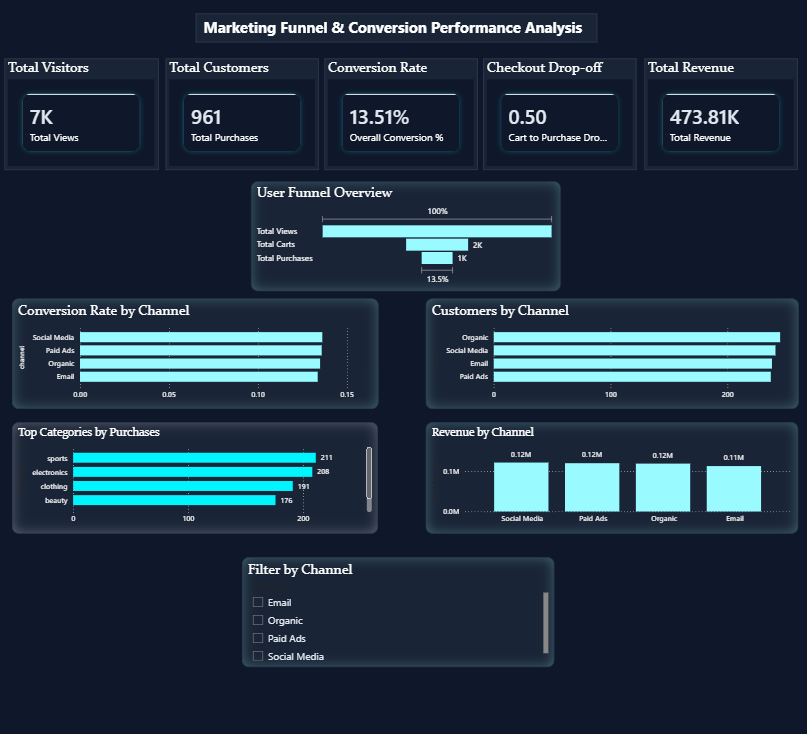

What the dashboard file says about the page in this screenshot:
{"tool":"powerbi","page":{"name":"Page 1","canvas":[1300,1100],"ordinal":0},"visuals":[{"type":"cardVisual","title":"Total Visitors","fields":{"Data":["Sheet1.Total Views"]},"box":[11.7,100.5,248,179.3],"z":0},{"type":"cardVisual","title":"Total Customers","fields":{"Data":["Sheet1.Total Purchases"]},"box":[271.4,100.5,246.3,179.3],"z":1000},{"type":"cardVisual","title":"Conversion Rate","fields":{"Data":["Sheet1.Overall Conversion %"]},"box":[527.8,100.5,246.3,179.3],"z":2000},{"type":"cardVisual","title":"Checkout Drop-off","fields":{"Data":["Sheet1.Cart to Purchase Drop %"]},"box":[782.5,100.5,246.3,179.3],"z":3000},{"type":"cardVisual","title":"Total Revenue","fields":{"Data":["Sheet1.Total Revenue"]},"box":[1042.2,100.5,246.3,179.3],"z":4000},{"type":"funnel","title":"User Funnel Overview","fields":{"Y":["Sheet1.Total Views","Sheet1.Total Carts","Sheet1.Total Purchases"]},"box":[407.2,296.6,499.3,177.6],"z":5000},{"type":"clusteredBarChart","title":"Customers by Channel","fields":{"Y":["Sheet1.Total Purchases"],"Category":["Sheet1.channel"]},"box":[688.7,485.9,599.9,177.6],"z":6000},{"type":"slicer","title":"Filter by Channel","fields":{"Values":["Sheet1.channel"]},"box":[408.2,880.7,498.7,176.9],"z":7000},{"type":"clusteredBarChart","title":"Conversion Rate by Channel","fields":{"Y":["Sheet1.Overall Conversion %"],"Category":["Sheet1.channel"]},"box":[25.1,485.9,589.8,177.6],"z":8000},{"type":"clusteredColumnChart","title":"Revenue by Channel","fields":{"Category":["Sheet1.channel"],"Y":["Sheet1.Total Revenue"]},"box":[689.7,685.7,599.2,179],"z":9000},{"type":"clusteredBarChart","title":"Top Categories by Purchases","fields":{"Category":["Sheet1.category"],"Y":["Sheet1.Total Purchases"]},"box":[24.1,685.7,589.1,179],"z":10000},{"type":"textbox","box":[319.7,28.2,645.4,46.2],"z":11000}]}

Visuals, with their boxes on the page's 1300x1100 design canvas (x1, y1, x2, y2). These are canvas units, not pixel positions in the 807x734 screenshot, which may show the page scaled, cropped or inside an application window:
"Total Visitors" cardVisual: 12, 100, 260, 280
"Total Customers" cardVisual: 271, 100, 518, 280
"Conversion Rate" cardVisual: 528, 100, 774, 280
"Checkout Drop-off" cardVisual: 782, 100, 1029, 280
"Total Revenue" cardVisual: 1042, 100, 1288, 280
"User Funnel Overview" funnel: 407, 297, 906, 474
"Customers by Channel" clusteredBarChart: 689, 486, 1289, 664
"Filter by Channel" slicer: 408, 881, 907, 1058
"Conversion Rate by Channel" clusteredBarChart: 25, 486, 615, 664
"Revenue by Channel" clusteredColumnChart: 690, 686, 1289, 865
"Top Categories by Purchases" clusteredBarChart: 24, 686, 613, 865
textbox: 320, 28, 965, 74
